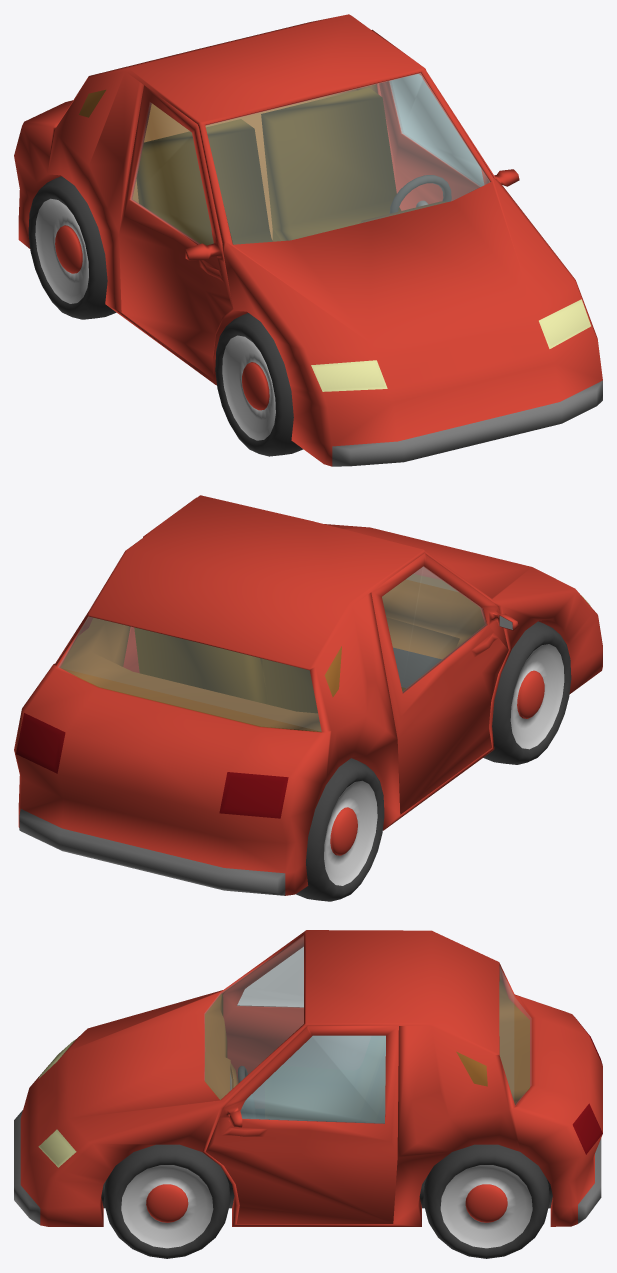
The model's file is car_v3.fbx.
The picture shows the model from 3 angles, top to bottom: view 1: azimuth 30°, elevation 25°; view 2: azimuth 150°, elevation 25°; view 3: azimuth 270°, elevation 25°; orthographic projection. The views are drawn at different scales.
Parts seen in each view (by area): view 1: Car, Door Right, Seat Left, Seat Right, Door Left, Wheel Back Right, Wheel Front Right, Steeringwheel; view 2: Car, Door Right, Wheel Front Right, Wheel Back Right, Seat Left, Seat Right, Door Left; view 3: Car, Door Left, Wheel Back Left, Wheel Front Left, Door Right.
Boxes of the visible parts, box(x1,y1,x2,y2) form: Car: box(14, 14, 602, 466); Door Right: box(119, 85, 233, 379); Seat Left: box(261, 88, 401, 241); Seat Right: box(136, 119, 272, 245); Door Left: box(371, 29, 519, 210); Wheel Back Right: box(28, 176, 116, 319); Wheel Front Right: box(215, 313, 303, 456); Steeringwheel: box(389, 175, 451, 213); Car: box(14, 495, 602, 895); Door Right: box(371, 553, 518, 814); Wheel Front Right: box(483, 621, 571, 764); Wheel Back Right: box(296, 758, 384, 901); Seat Left: box(134, 627, 267, 704); Seat Right: box(262, 659, 405, 713); Door Left: box(123, 497, 196, 672); Car: box(14, 930, 602, 1226); Door Left: box(205, 1026, 398, 1223); Wheel Back Left: box(423, 1144, 549, 1258); Wheel Front Left: box(104, 1144, 230, 1258); Door Right: box(223, 937, 303, 1083).
Size of the model in its own units: 238 by 184 by 430.
